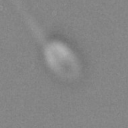normal: (10, 1, 50, 46)
